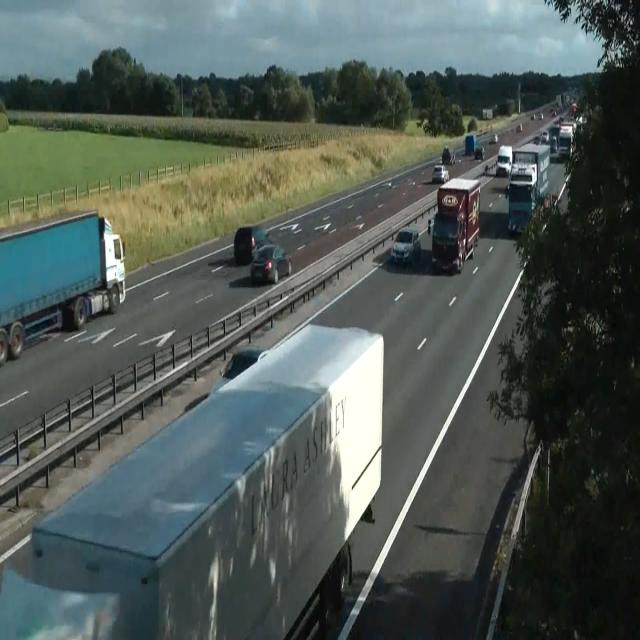bus: (213, 345, 267, 393), (390, 227, 420, 266), (432, 164, 448, 184), (473, 145, 485, 160), (488, 133, 498, 144), (571, 102, 578, 115), (516, 122, 522, 132), (494, 133, 498, 143), (539, 112, 543, 119), (531, 113, 535, 120)
car: (25, 320, 385, 638)
jeep: (250, 242, 292, 284), (233, 224, 270, 265), (506, 181, 534, 234), (495, 144, 513, 177), (441, 146, 455, 164)
minibus: (0, 209, 126, 365), (428, 177, 480, 274), (506, 142, 550, 234), (536, 122, 575, 159), (558, 122, 574, 157), (464, 133, 484, 160), (464, 134, 476, 156), (482, 108, 492, 120)
